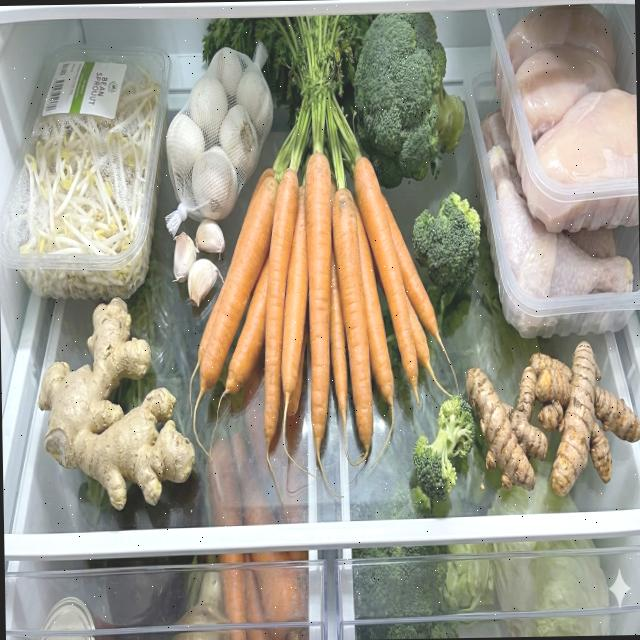bean_sprouts: (14, 58, 169, 298)
brocolli: (351, 11, 468, 190), (411, 192, 482, 294), (411, 394, 476, 502)
carrot: (185, 149, 461, 502)
chicken: (480, 105, 636, 338), (504, 2, 638, 234)
garlic: (164, 45, 278, 308)
ginger: (36, 294, 198, 512)
turmeric: (465, 338, 640, 500)
